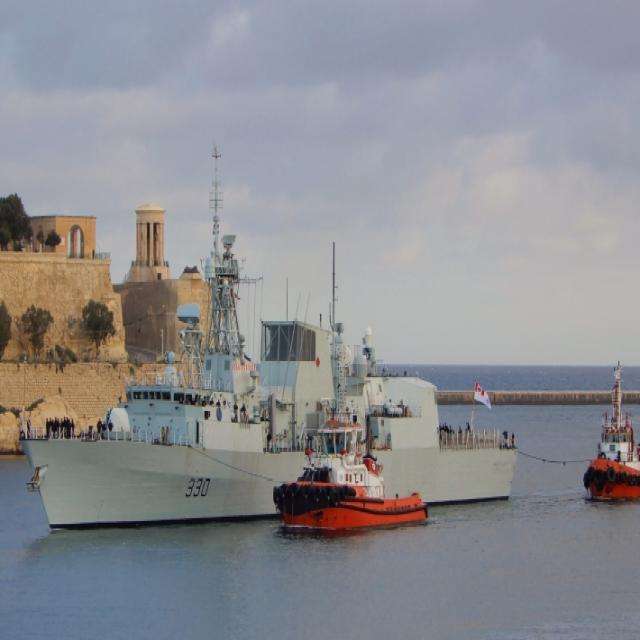Fragata: (12, 127, 522, 538)
